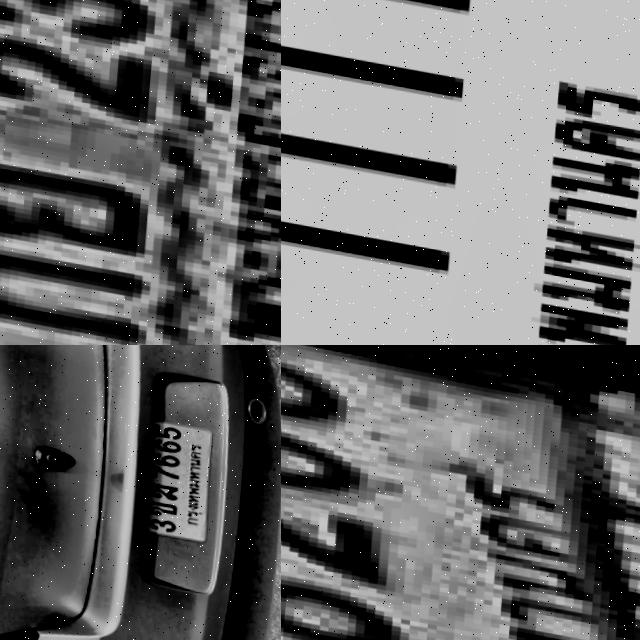license-plate: (281, 0, 640, 345), (281, 345, 640, 640), (0, 0, 281, 345), (138, 404, 215, 532)
